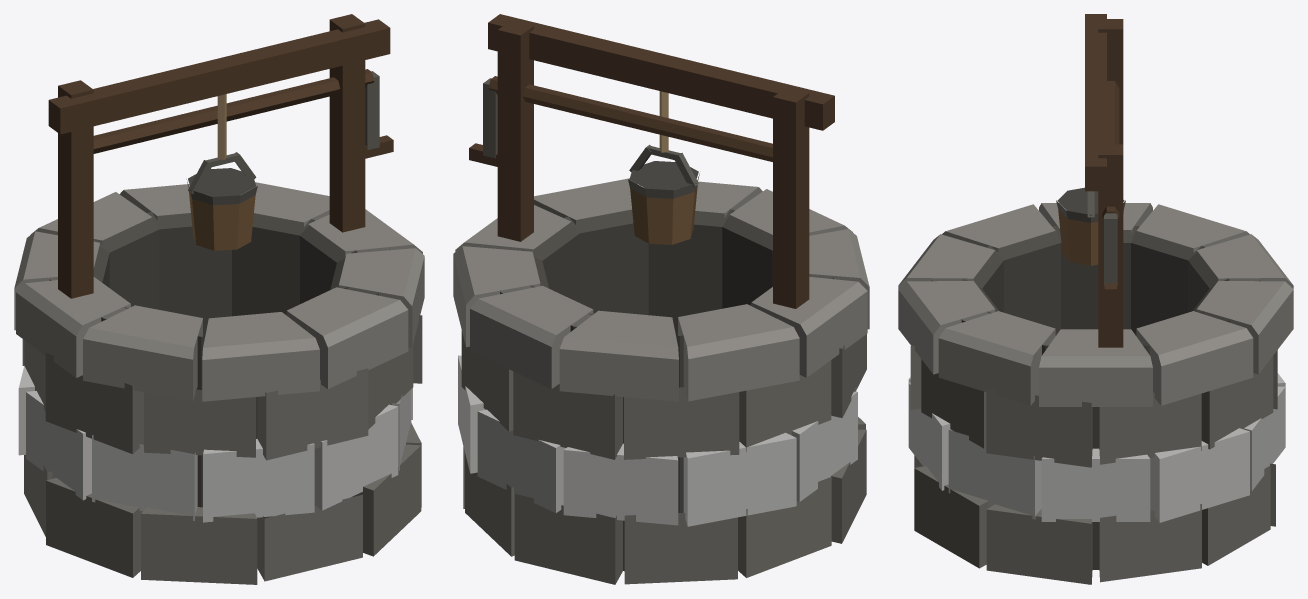
Rendered from stone-well-2b4717.glb.
3 renders of one model, left to right at view 1: azimuth 30°, elevation 25°; view 2: azimuth 150°, elevation 25°; view 3: azimuth 270°, elevation 25°, orthographic. The views are drawn at different scales.
Visible parts, largest first — view 1: well-body, bucket-mesh, crank-mesh; view 2: well-body, crank-mesh, bucket-mesh; view 3: well-body, bucket-mesh, crank-mesh.
Boxes of the visible parts, x1=… form: well-body: x1=14, y1=14, x2=424, y2=584; bucket-mesh: x1=186, y1=94, x2=257, y2=250; crank-mesh: x1=93, y1=69, x2=393, y2=158; well-body: x1=453, y1=14, x2=869, y2=584; crank-mesh: x1=469, y1=76, x2=772, y2=166; bucket-mesh: x1=628, y1=91, x2=699, y2=244; well-body: x1=898, y1=14, x2=1293, y2=584; bucket-mesh: x1=1056, y1=187, x2=1125, y2=265; crank-mesh: x1=1102, y1=81, x2=1119, y2=300.
Bounding box in the file's own units: 1.57 × 1.86 × 1.6.
